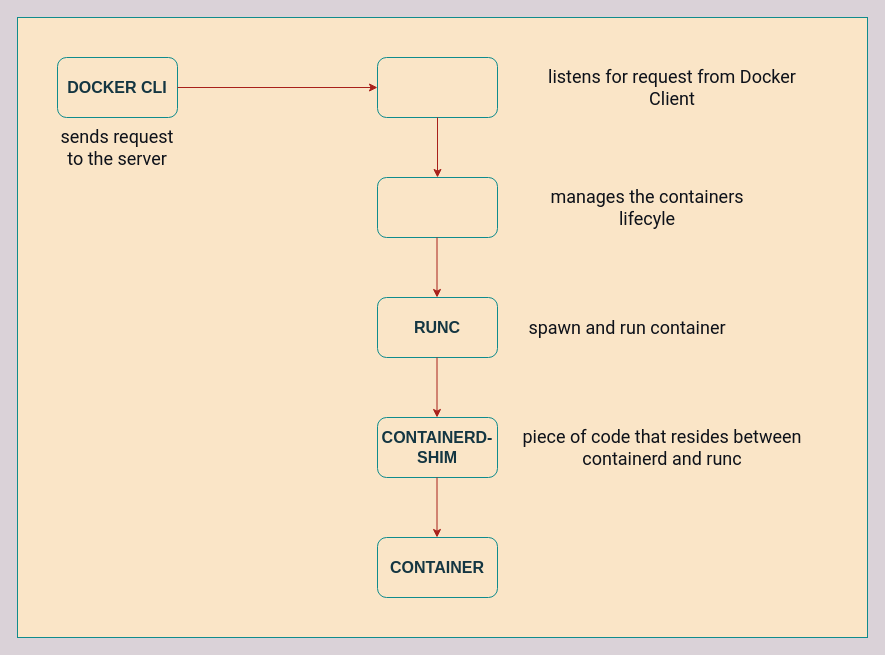
The diagram is 885 pixels wide and 655 high, and some of its shapes have lost their labels. The centre of each missing label's shape, as x and y in pixels:
"CONTAINERD" goes at (x=437, y=207).
"DOCKERD" goes at (x=437, y=87).
